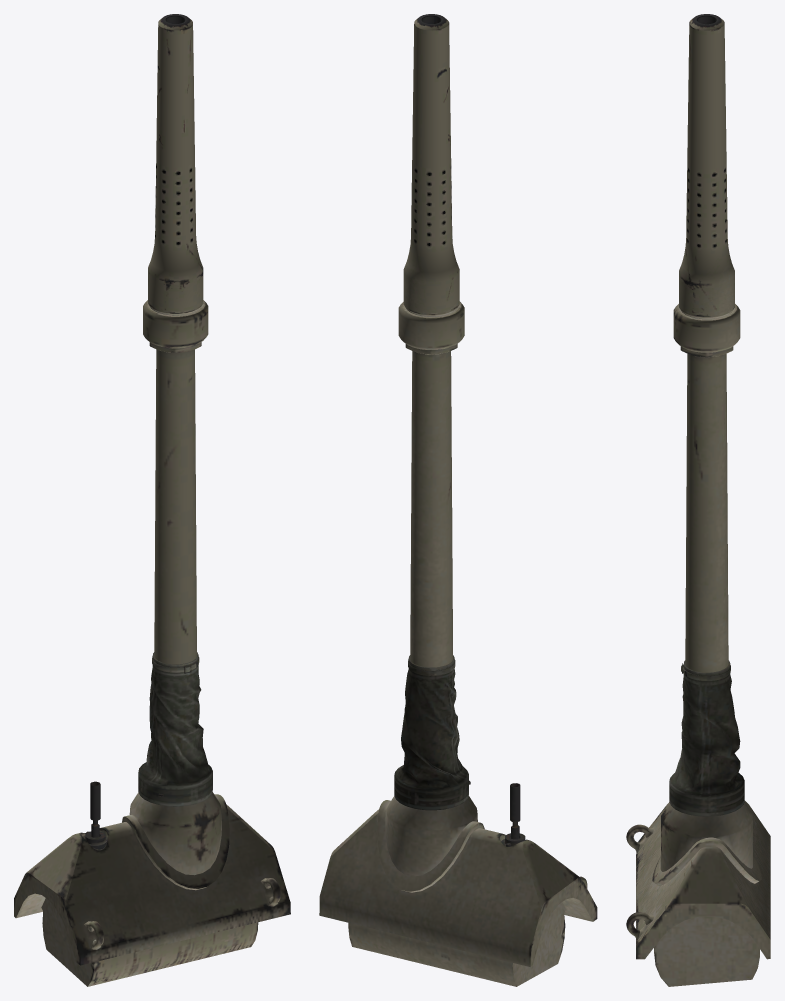
Rendered from Gun_05.glb.
3 renders of one model, left to right at view 1: azimuth 30°, elevation 25°; view 2: azimuth 150°, elevation 25°; view 3: azimuth 270°, elevation 25°, orthographic.
Parts seen in each view (by area): view 1: set_0_group_0; view 2: set_0_group_0; view 3: set_0_group_0.
Boxes of the visible parts, x1,y1,x2,y2 form: set_0_group_0: (14, 14, 290, 986); set_0_group_0: (319, 14, 597, 986); set_0_group_0: (626, 14, 770, 986).
Bounding box in the file's own units: 0.6962 × 2.93 × 0.4082.
1 material, 1 textured.
